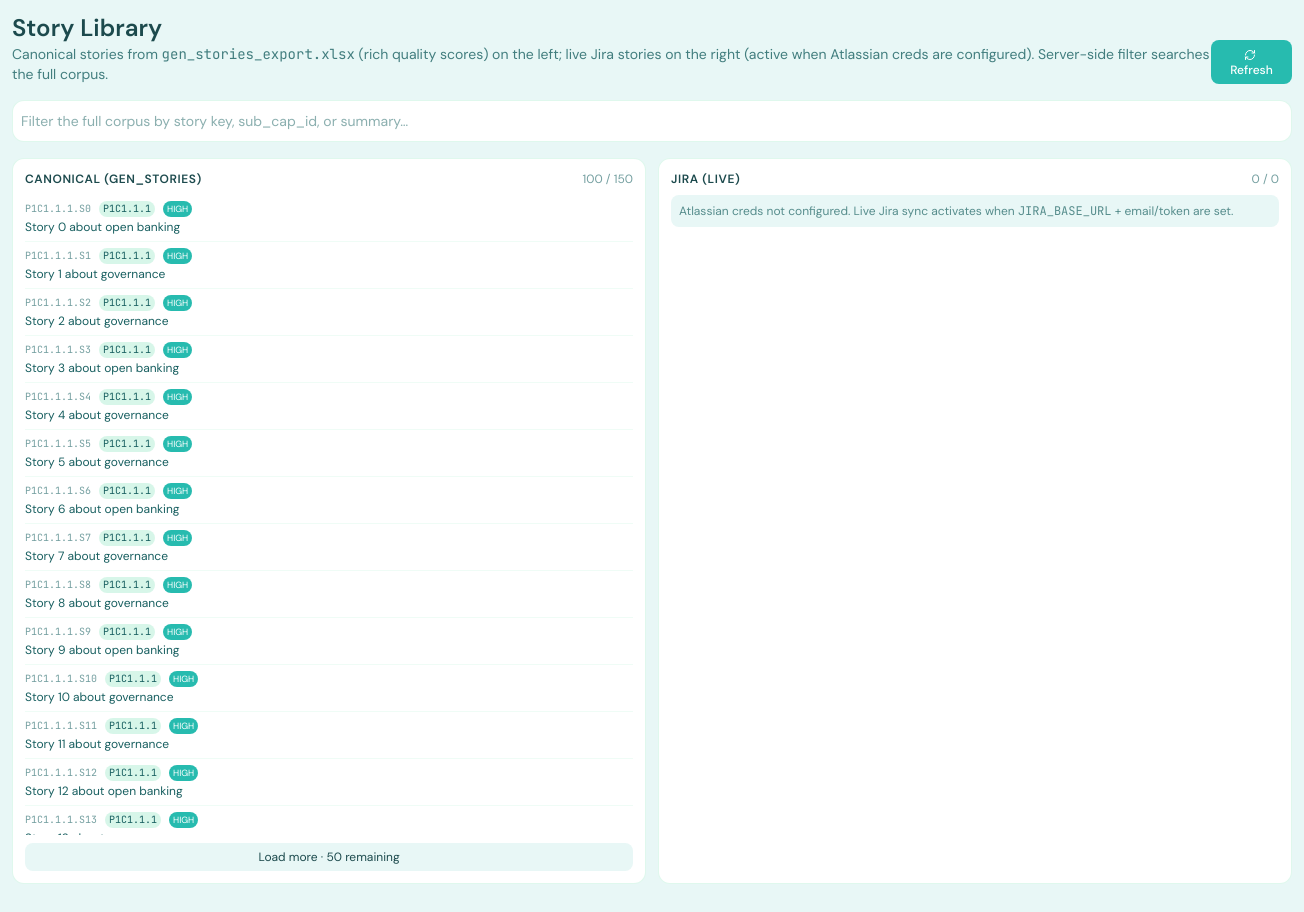
Test: Story Library (paginated) › filter narrows the corpus via server-side search
Expected: the text "P1C1.1.1.S0" is shown, [25,201,91,217]
Type "open banking" into the field with placeholder "Filter the full corpus".
click(652, 121); type("open banking")  # box [21,111,1283,131]
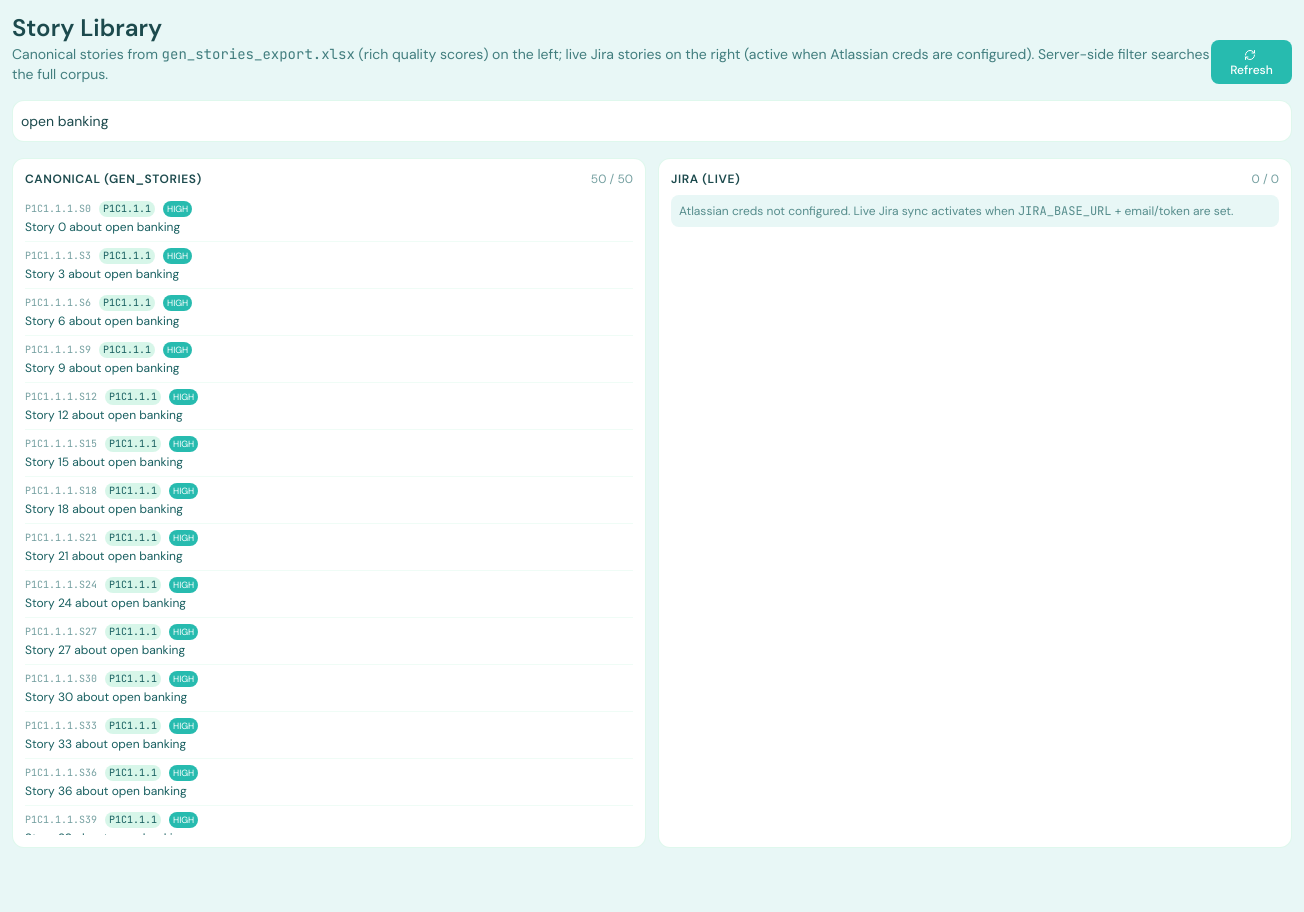
Result: the text "50 / 50" is shown at [591,171,633,187]
